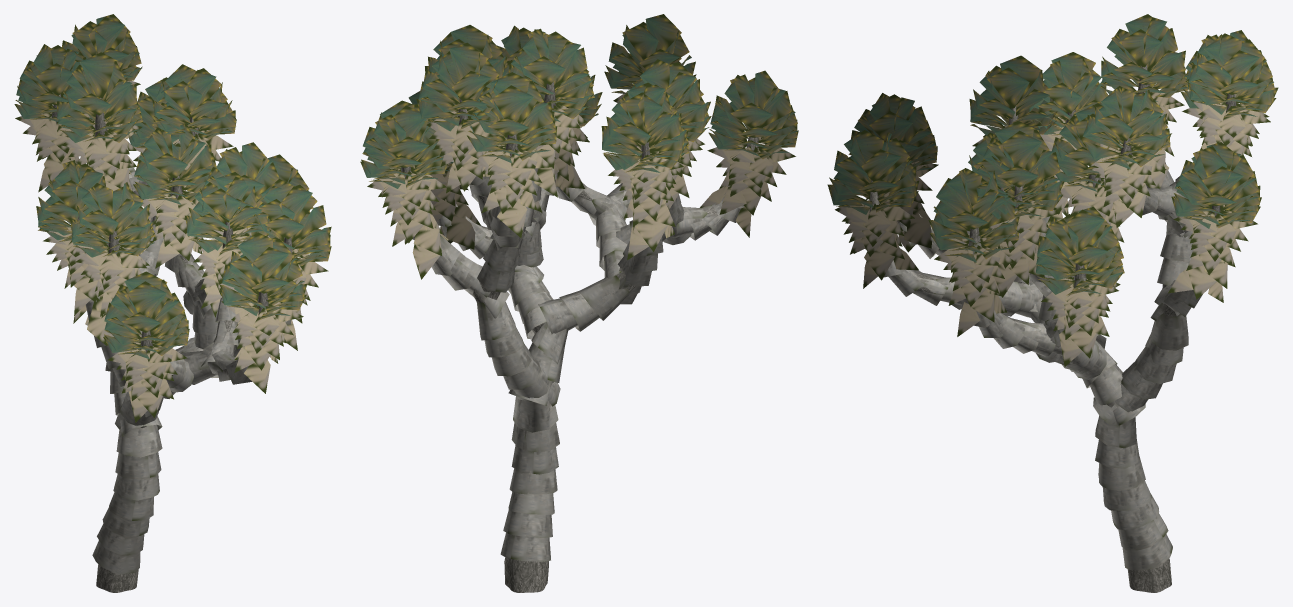
3 views of the same model, side by side, from view 1: azimuth 30°, elevation 25°; view 2: azimuth 150°, elevation 25°; view 3: azimuth 270°, elevation 25° (orthographic). The views are drawn at different scales.
Visible parts, largest first — view 1: jt6; view 2: jt6; view 3: jt6.
Part boxes in pixels (bbox=[...]): jt6: bbox=[14, 14, 331, 592]; jt6: bbox=[360, 14, 798, 592]; jt6: bbox=[827, 14, 1278, 592].
Size of the model in its own units: 2.64 by 4.64 by 3.38.
